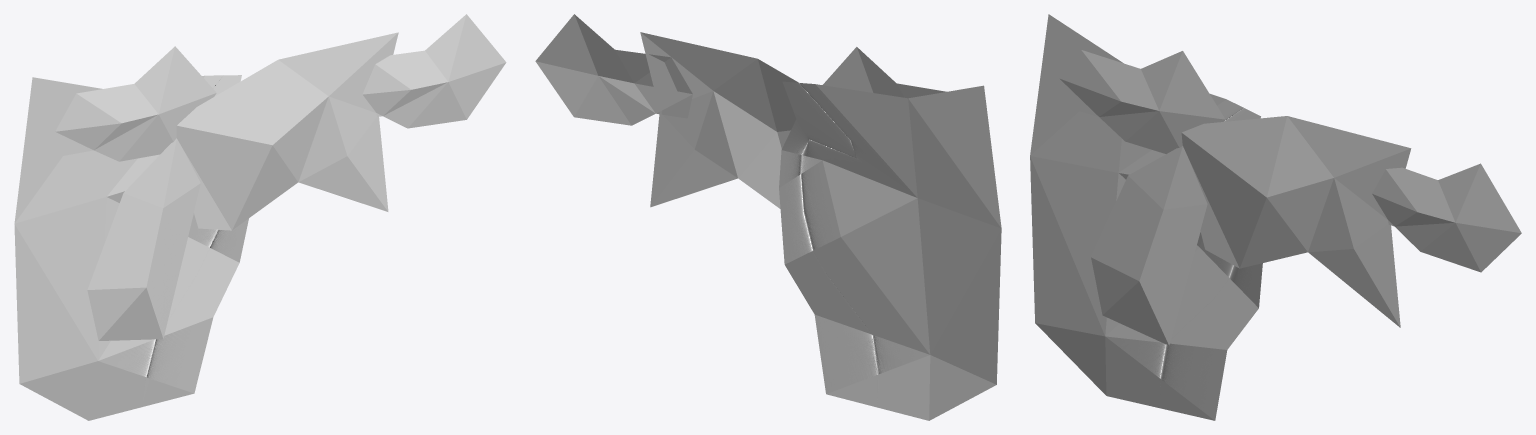
The model's file is SM_Env_Ivy_10.glb.
3 renders of one model, left to right at view 1: azimuth 30°, elevation 25°; view 2: azimuth 150°, elevation 25°; view 3: azimuth 330°, elevation 25°, orthographic. The views are drawn at different scales.
Parts seen in each view (by area): view 1: SM_Env_Ivy_10; view 2: SM_Env_Ivy_10; view 3: SM_Env_Ivy_10.
Part boxes in pixels (bbox=[...]): SM_Env_Ivy_10: bbox=[14, 14, 506, 420]; SM_Env_Ivy_10: bbox=[535, 14, 1001, 420]; SM_Env_Ivy_10: bbox=[1030, 14, 1521, 420].
Bounding box in the file's own units: 3.3 × 2.34 × 0.1654.
1 material, 1 textured.
